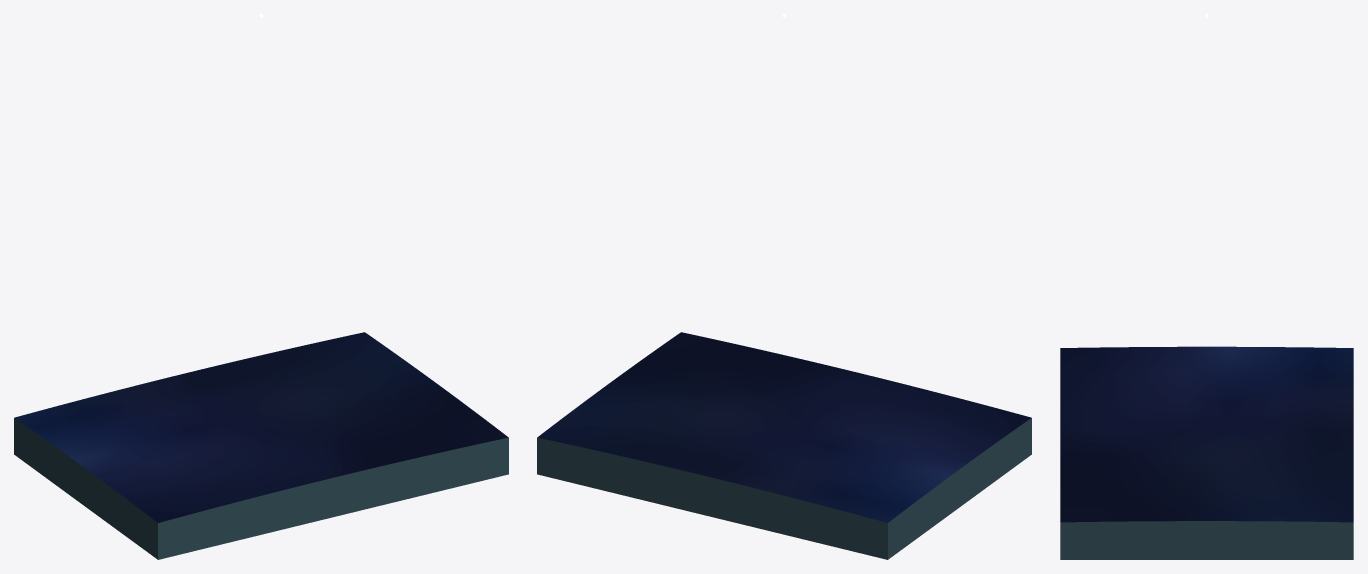
File: space3d3-iss-altitude.glb
3 views of the same model, side by side, from view 1: azimuth 30°, elevation 25°; view 2: azimuth 150°, elevation 25°; view 3: azimuth 270°, elevation 25° (orthographic).
Parts seen in each view (by area): view 1: Local Earth surface, Arbitrary cut walls; view 2: Local Earth surface, Arbitrary cut walls; view 3: Local Earth surface, Arbitrary cut walls.
Part boxes in pixels (<box>): Local Earth surface: <box>14,332,508,522</box>; Arbitrary cut walls: <box>14,418,508,559</box>; Local Earth surface: <box>537,332,1031,522</box>; Arbitrary cut walls: <box>537,418,1031,559</box>; Local Earth surface: <box>1060,346,1353,522</box>; Arbitrary cut walls: <box>1060,521,1353,559</box>.
Size of the model in its own units: 0.8999 by 1.1 by 0.64.
Materials: 3 (1 with a texture image).
